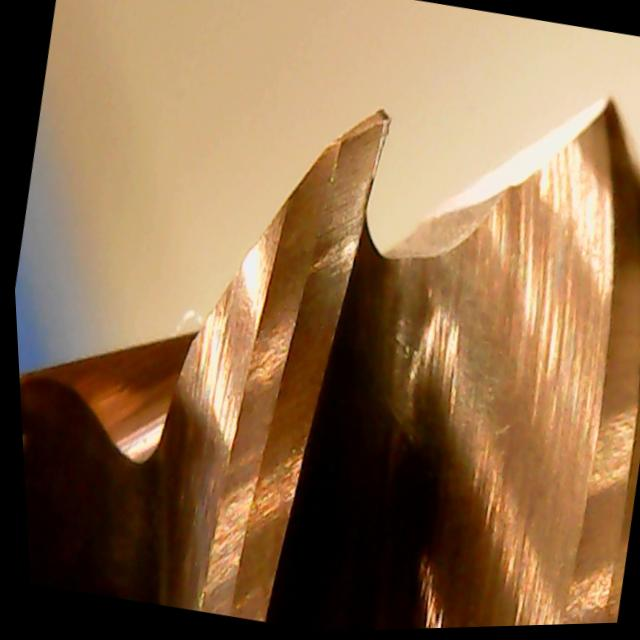Tool-wear-class-1: (225, 82, 406, 323)
